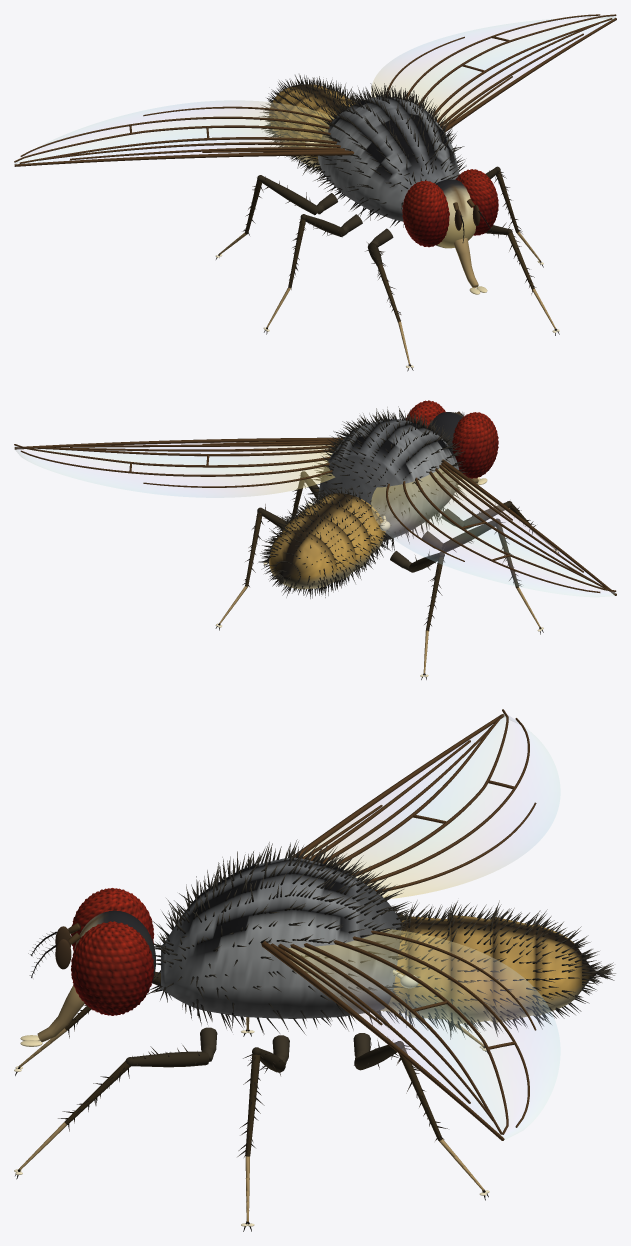
File: fly.glb
3 views of the same model, one above another, from view 1: azimuth 30°, elevation 25°; view 2: azimuth 150°, elevation 25°; view 3: azimuth 270°, elevation 25° (orthographic). The views are drawn at different scales.
Visible parts, largest first — view 1: Wing_R, Thorax, Wing_L, Abdomen, Eye_R, Head, Eye_L, Leg_R2, Leg_R1, Leg_R0, Leg_L0, Proboscis (+1 smaller); view 2: Wing_R, Wing_L, Thorax, Abdomen, Eye_R, Leg_R1, Leg_R2, Leg_L2, Leg_R0, Head, Eye_L, Leg_L1; view 3: Thorax, Wing_L, Wing_R, Abdomen, Eye_L, Leg_L0, Leg_L2, Leg_L1, Eye_R, Proboscis, Head.
Boxes of the visible parts, <box> form: Wing_R: <box>14,100,354,166</box>; Thorax: <box>305,83,466,227</box>; Wing_L: <box>371,14,616,132</box>; Abdomen: <box>259,74,361,179</box>; Eye_R: <box>402,180,449,247</box>; Head: <box>436,179,475,248</box>; Eye_L: <box>455,169,498,235</box>; Leg_R2: <box>215,175,337,259</box>; Leg_R1: <box>263,214,362,334</box>; Leg_R0: <box>365,228,413,371</box>; Leg_L0: <box>485,222,559,335</box>; Proboscis: <box>454,237,487,294</box>; Wing_R: <box>371,459,616,596</box>; Wing_L: <box>14,437,343,497</box>; Thorax: <box>304,406,467,559</box>; Abdomen: <box>258,485,393,598</box>; Eye_R: <box>452,412,498,478</box>; Leg_R1: <box>422,518,543,634</box>; Leg_R2: <box>390,547,444,679</box>; Leg_L2: <box>215,504,287,630</box>; Leg_R0: <box>441,501,559,553</box>; Head: <box>429,412,463,449</box>; Eye_L: <box>406,400,445,427</box>; Leg_L1: <box>263,471,319,566</box>; Thorax: <box>147,839,418,1034</box>; Wing_L: <box>261,929,560,1140</box>; Wing_R: <box>291,709,560,898</box>; Abdomen: <box>375,900,615,1039</box>; Eye_L: <box>71,921,154,1015</box>; Leg_L0: <box>14,1027,217,1179</box>; Leg_L2: <box>353,1033,489,1200</box>; Leg_L1: <box>237,1035,289,1231</box>; Eye_R: <box>71,888,154,950</box>; Proboscis: <box>20,985,84,1046</box>; Head: <box>74,910,155,981</box>.
Bounding box in the file's own units: 1.8 × 0.5624 × 1.08.
